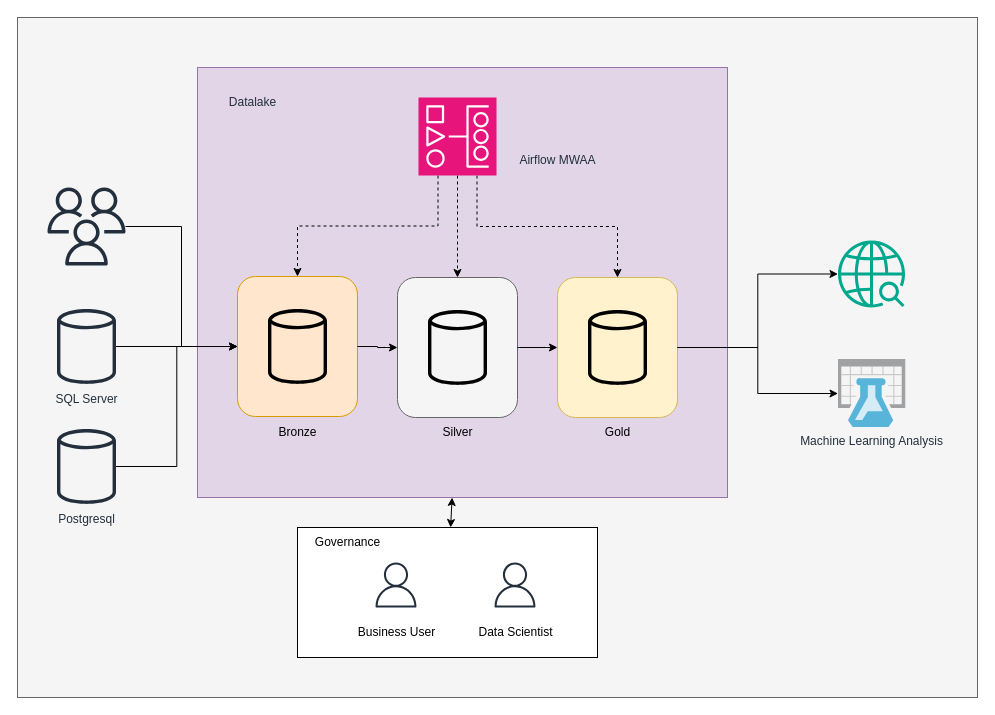
The diagram is 995 pixels wide and 715 high, and some of its shapes have lost their labels. Each missing label, with the box of its shape:
CRM: (47, 187, 125, 265)
Reports: (838, 240, 904, 307)
